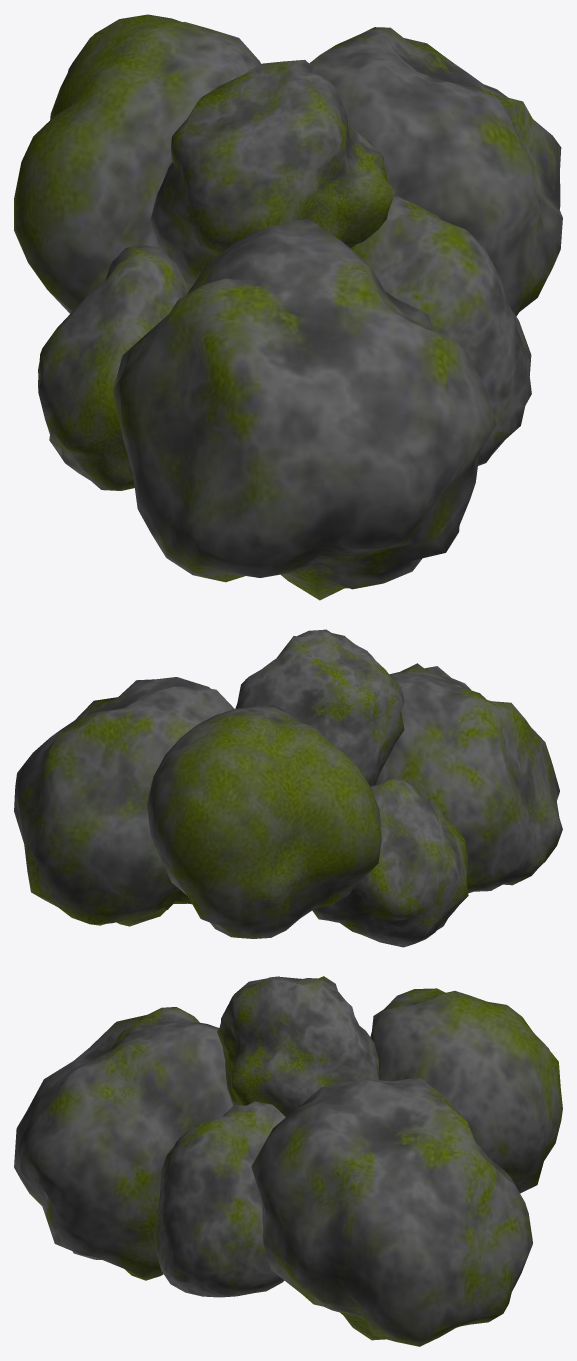
File: Stones.obj
3 views of the same model, one above another, from view 1: azimuth 30°, elevation 25°; view 2: azimuth 150°, elevation 25°; view 3: azimuth 270°, elevation 25° (orthographic). The views are drawn at different scales.
Visible parts, largest first — view 1: BoulderOutcropMossyMedium; view 2: BoulderOutcropMossyMedium; view 3: BoulderOutcropMossyMedium.
Part boxes in pixels (box(x1,y1,x2,y2)): BoulderOutcropMossyMedium: box(14, 14, 562, 600); BoulderOutcropMossyMedium: box(14, 629, 562, 947); BoulderOutcropMossyMedium: box(14, 976, 562, 1346).
Bounding box in the file's own units: 5.22 × 3.74 × 5.87.
Materials: 1 (1 with a texture image).
